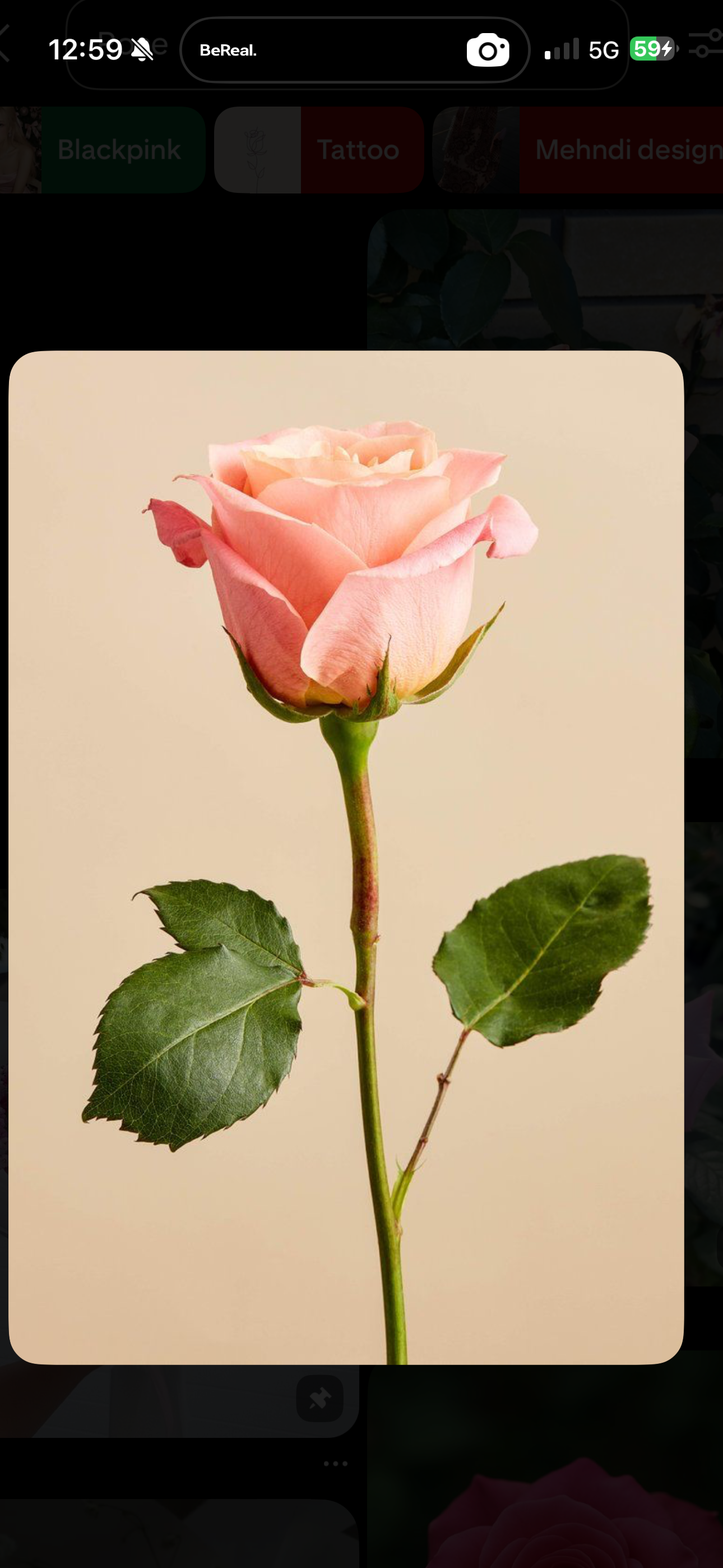rose: (140, 405, 543, 726)
